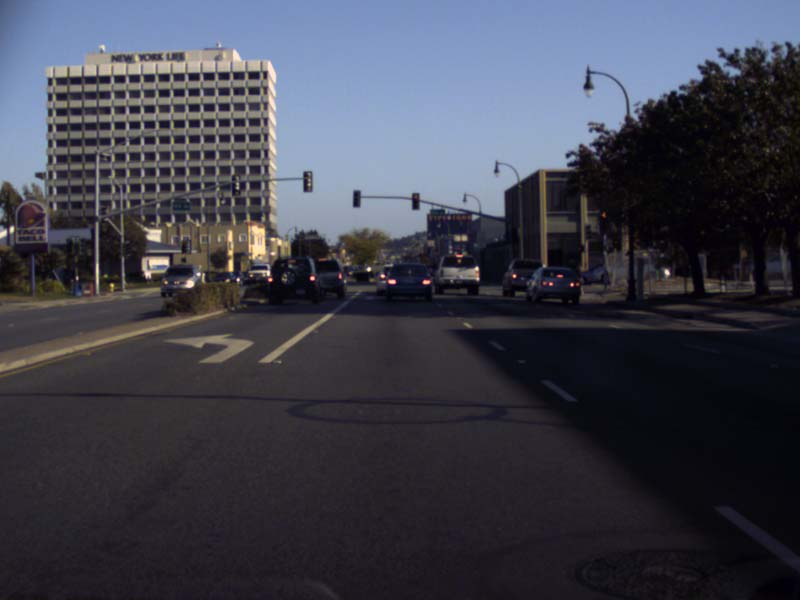Red: (599, 210, 609, 235), (411, 192, 419, 209)
